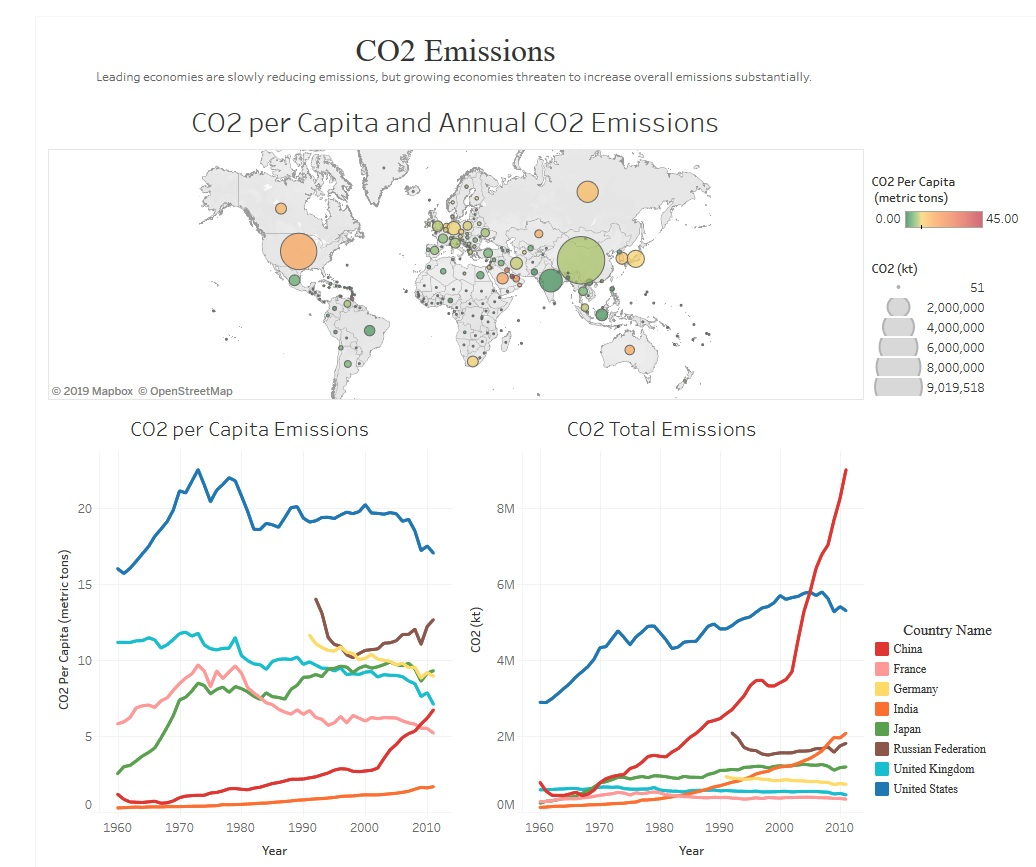

The dashboard page shown, as its layout file describes it:
{"tool":"tableau","page":{"name":"Dashboard 1","canvas":[1000,860],"ordinal":0},"visuals":[{"type":"text","box":[8,8,824.2,67]},{"type":"legend","title":"CO2 per Capita","param":"[federated.1mcggtq18fc6m515g35pb1ipj6ou].[sum:CO2 Per Capita (metric tons):qk]","box":[832.2,8,159.8,231]},{"type":"worksheet","title":"CO2 per Capita","mark":"Automatic","box":[8,75,824.2,312]},{"type":"legend","title":"CO2 per Capita","param":"[federated.1mcggtq18fc6m515g35pb1ipj6ou].[sum:CO2 (kt):qk]","box":[832.2,239,159.8,362]},{"type":"worksheet","title":"CO2 Emission Changes Over Time","mark":"Automatic","rows":["CO2 Per Capita (metric tons)"],"cols":["Year"],"box":[8,387,412.1,465]},{"type":"worksheet","title":"CO2 Emissions Over Time","mark":"Automatic","rows":["CO2 (kt)"],"cols":["Year"],"box":[420.1,387,412.1,465]},{"type":"legend","title":"CO2 Emissions Over Time","param":"[federated.1mcggtq18fc6m515g35pb1ipj6ou].[none:Country Name:nk]","box":[832.2,601,159.8,186]}]}

Visuals, with their boxes in screenshot pixels (x1, y1, x2, y2), scaled from the page's 1000x860 canvas onto the 1036x867 screenshot:
text: <bbox>8, 8, 862, 76</bbox>
"CO2 per Capita" legend: <bbox>862, 8, 1028, 241</bbox>
"CO2 per Capita" worksheet: <bbox>8, 76, 862, 390</bbox>
"CO2 per Capita" legend: <bbox>862, 241, 1028, 606</bbox>
"CO2 Emission Changes Over Time" worksheet: <bbox>8, 390, 435, 859</bbox>
"CO2 Emissions Over Time" worksheet: <bbox>435, 390, 862, 859</bbox>
"CO2 Emissions Over Time" legend: <bbox>862, 606, 1028, 793</bbox>
